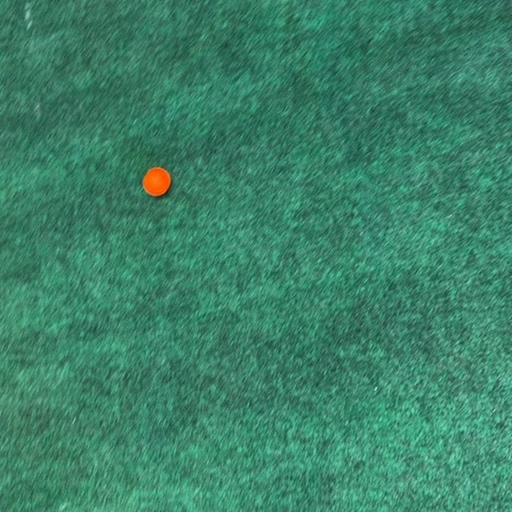Ball: (143, 168, 171, 195)
